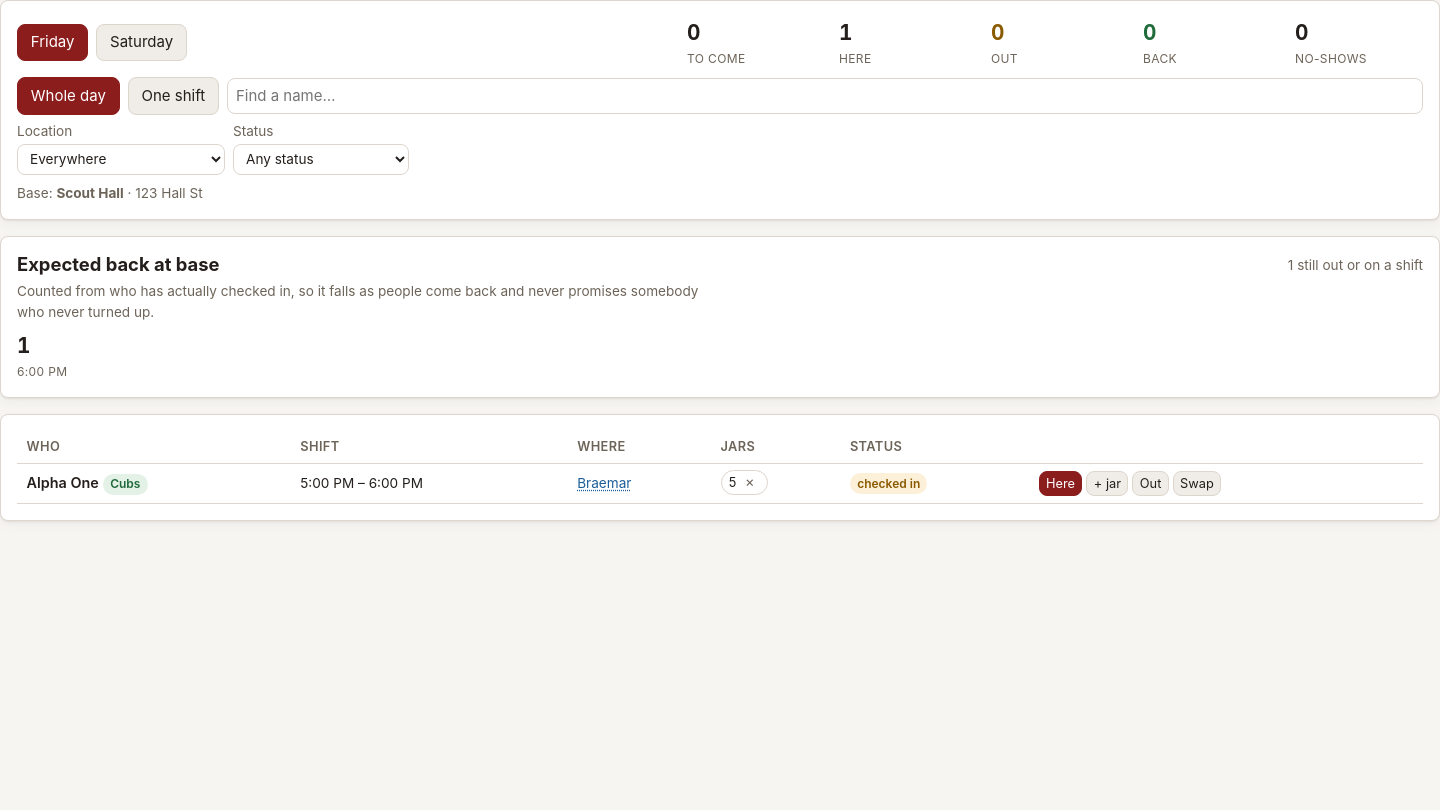
Test case: issuing a jar › refuses a number already out, rather than duplicating it
The width and height of the screenshot is (1440, 810).
Click the button titled "Give Alpha One a jar" at (1107, 484), box top-left (1086, 470), bottom-right (1128, 496)
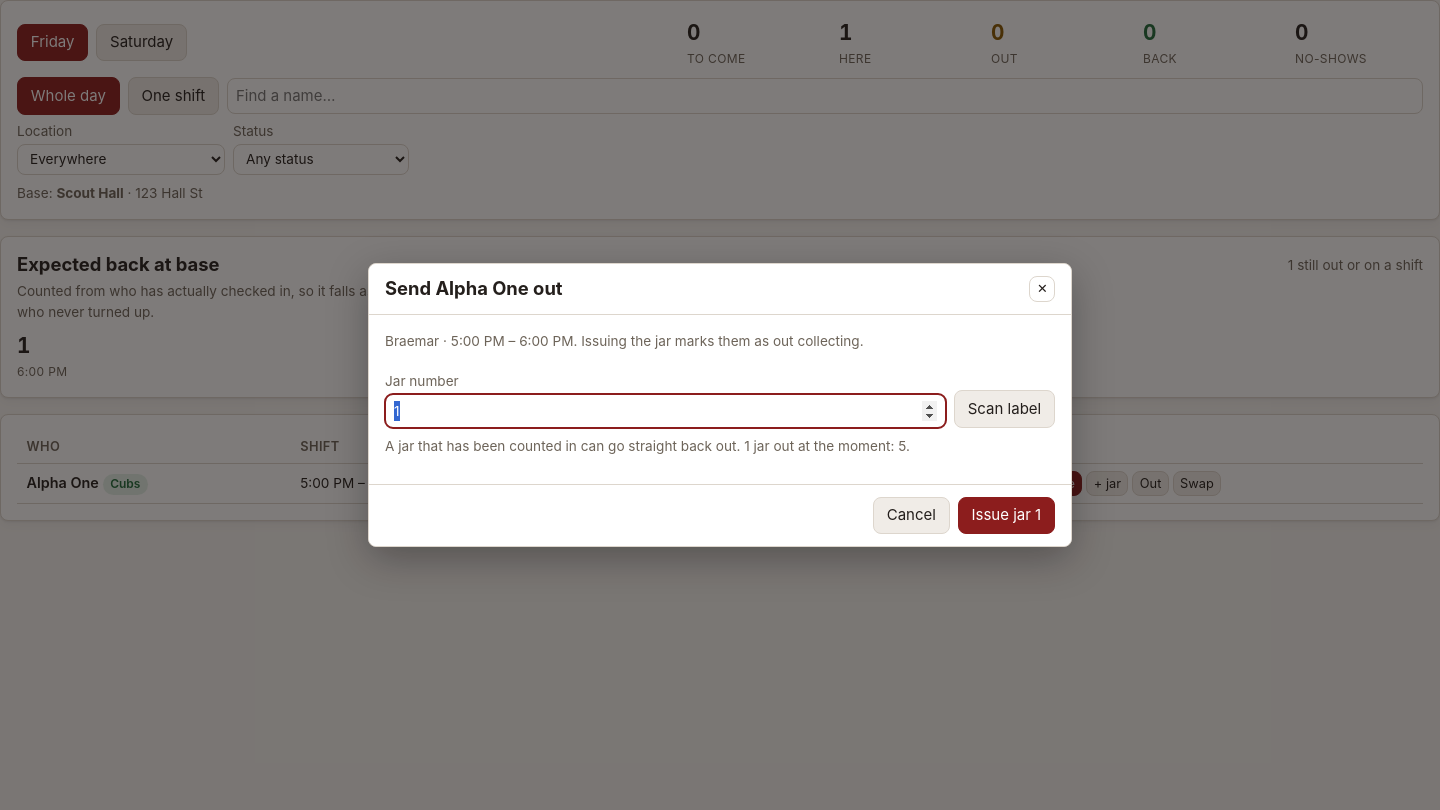
Replace the text in the number field labelled "Jar number" with "5" at (665, 411), box top-left (385, 394), bottom-right (946, 428)
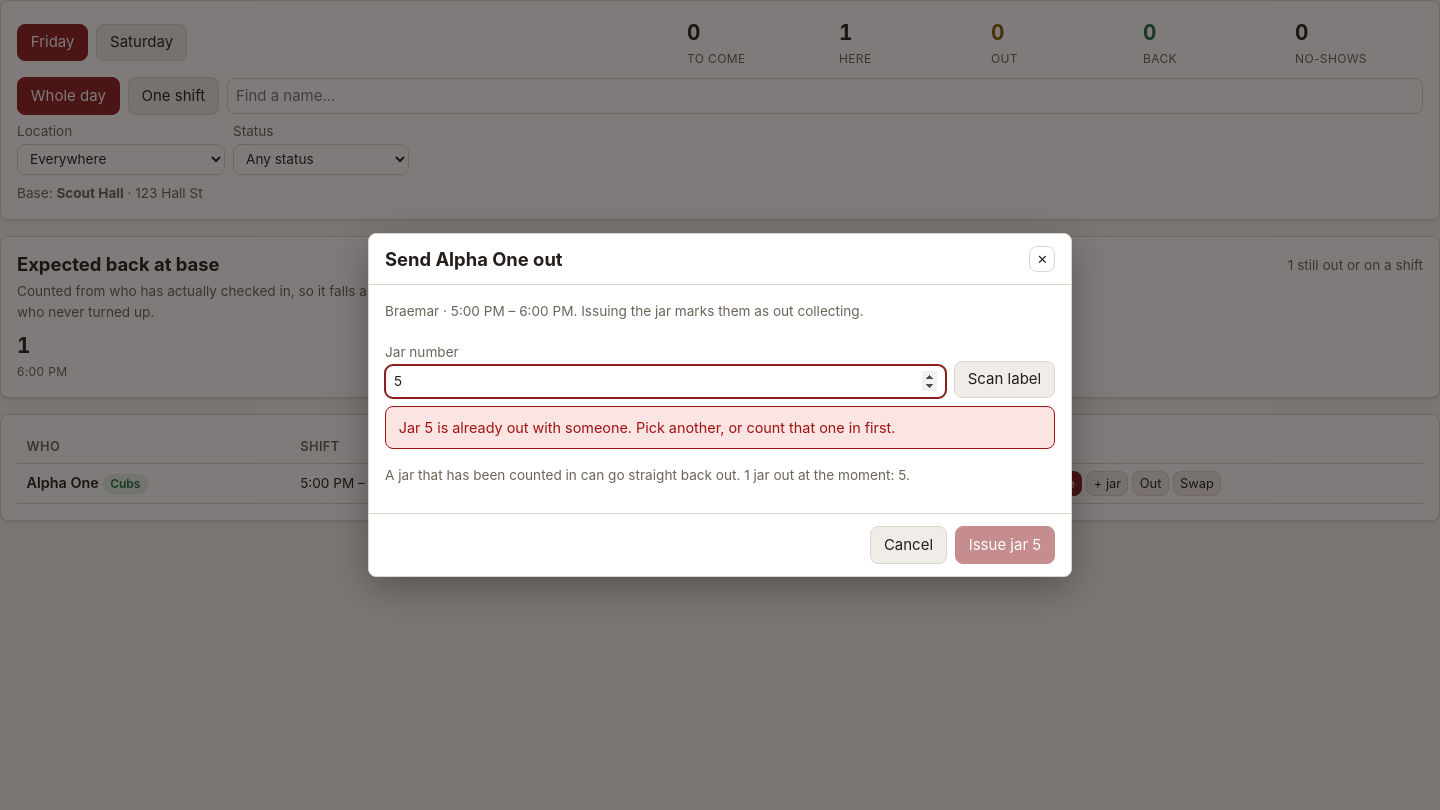
Now the button "Issue jar 5" is disabled, box top-left (955, 526), bottom-right (1055, 564)
Now the text "already out with someone" is shown, box top-left (433, 419), bottom-right (895, 436)
